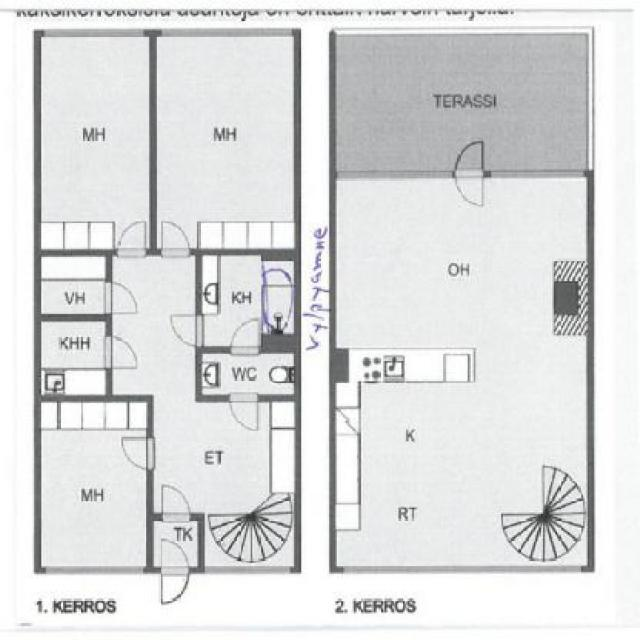door: (157, 539, 192, 606), (454, 143, 484, 215), (228, 312, 262, 356), (102, 337, 142, 374), (116, 218, 150, 260), (229, 392, 262, 434), (168, 312, 206, 348), (120, 435, 158, 471), (105, 278, 138, 317), (161, 486, 194, 523), (160, 218, 189, 260)
window: (343, 563, 582, 572), (203, 565, 291, 577), (45, 566, 142, 576), (46, 29, 145, 38), (160, 30, 291, 36)
zone: (338, 179, 588, 566), (112, 257, 294, 568), (337, 34, 588, 169), (156, 34, 296, 249), (41, 35, 150, 248), (41, 402, 150, 569), (200, 254, 291, 395), (42, 323, 106, 394), (42, 256, 104, 316)
